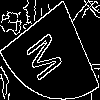M: (25, 25, 70, 85)
